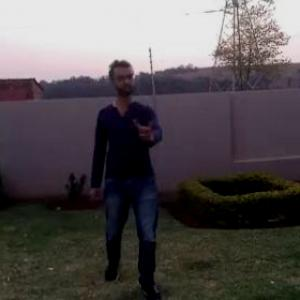takeoff-hand: (130, 110, 158, 142)
